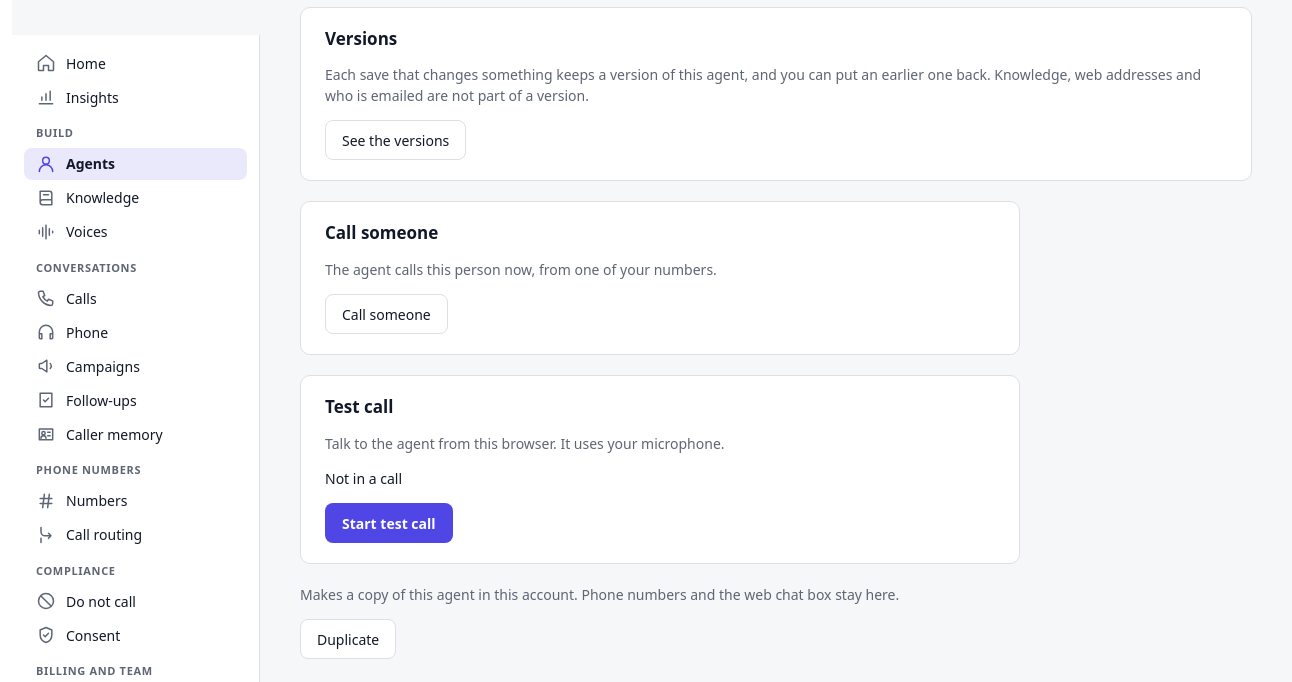
duplicating an agent › says on the copy's page whose copy it is, with one line for each thing left to do
The image size is (1292, 682).
(page scrolled)
Click the button "Duplicate" at [348, 639], box x1=300 y1=619 x2=396 y2=659
(page scrolled)
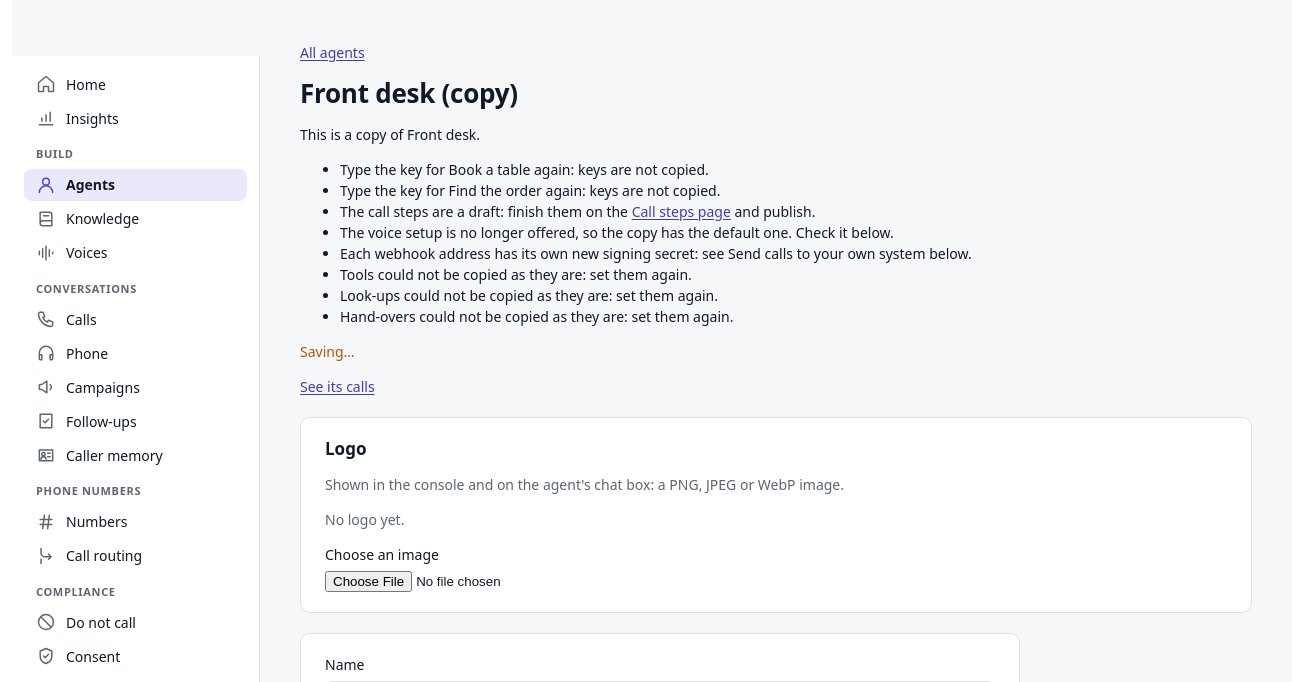
Check: the heading "Front desk (copy)" is shown, box x1=300 y1=75 x2=518 y2=111
Check: the text "This is a copy of Front desk." is shown, box x1=300 y1=124 x2=480 y2=144
